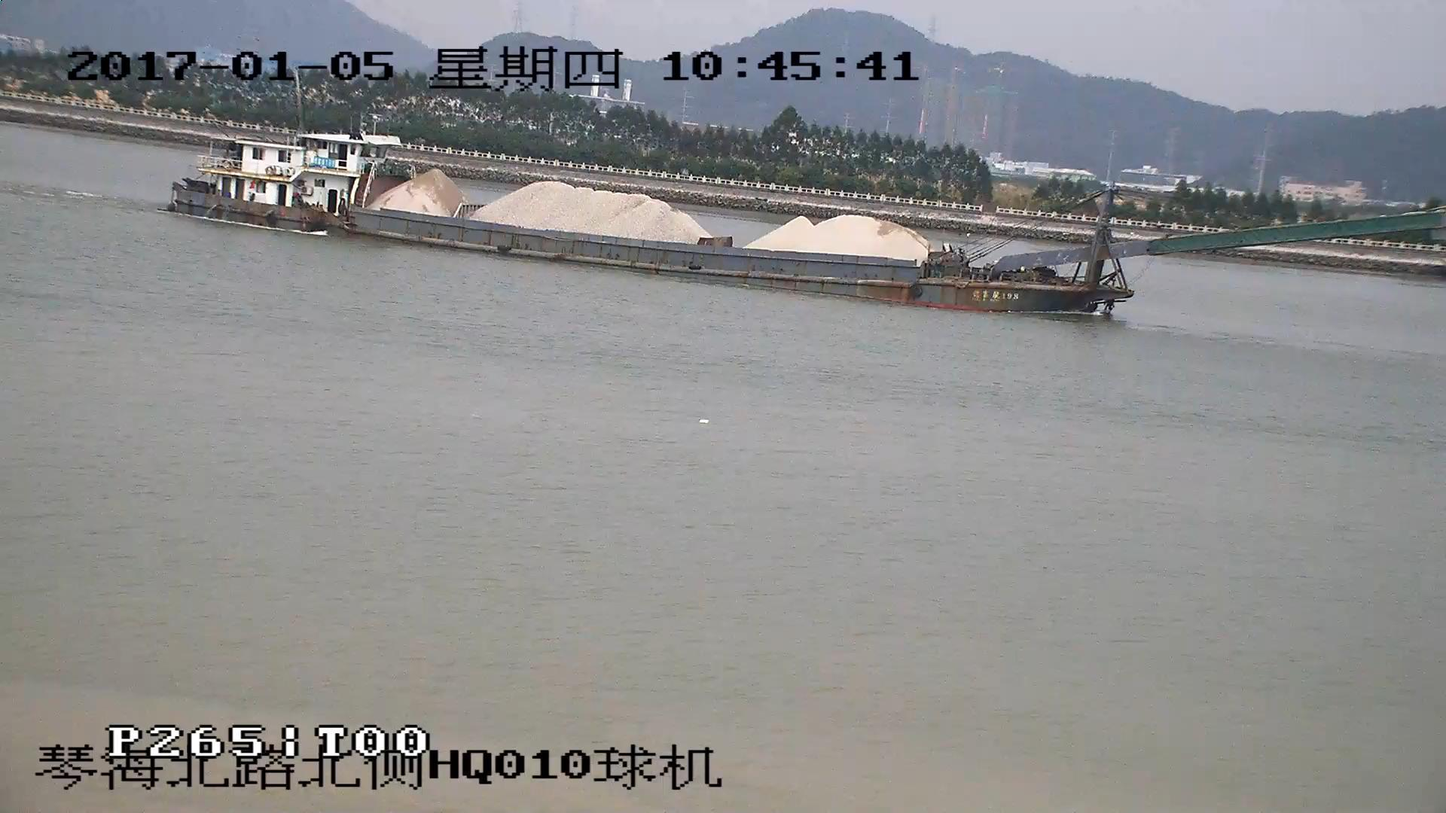ore carrier: (171, 129, 1444, 313)
